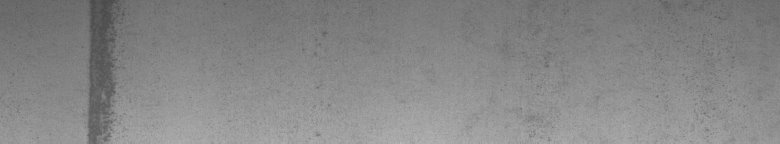hd: (80, 4, 126, 136)
